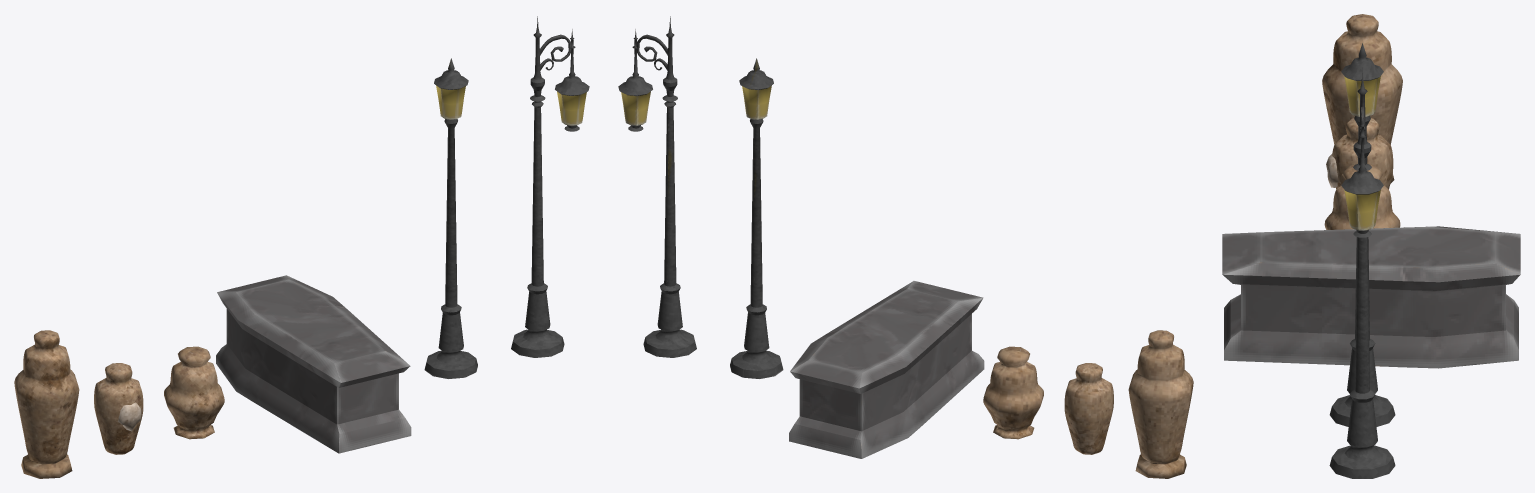
The model's file is Graveyard Assets.003.fbx.
3 renders of one model, left to right at view 1: azimuth 30°, elevation 25°; view 2: azimuth 150°, elevation 25°; view 3: azimuth 270°, elevation 25°, orthographic. The views are drawn at different scales.
Parts seen in each view (by area): view 1: Coffin.004, Urn001.002, Cylinder.010, Cylinder.009, Urn001.001, Skull.002; view 2: Coffin.004, Urn001.002, Cylinder.010, Cylinder.009, Urn001.001, Skull.002; view 3: Coffin.004, Cylinder.010, Urn001.002, Cylinder.009, Skull.002, Urn001.001.
Part boxes in pixels (x1,y1,x2,y2): Coffin.004: (216, 275, 411, 453); Urn001.002: (14, 330, 79, 478); Cylinder.010: (511, 16, 589, 357); Cylinder.009: (424, 58, 477, 378); Urn001.001: (164, 346, 224, 439); Skull.002: (94, 363, 143, 454); Coffin.004: (789, 281, 984, 458); Urn001.002: (1128, 330, 1193, 478); Cylinder.010: (618, 16, 696, 357); Cylinder.009: (730, 58, 783, 378); Urn001.001: (983, 346, 1043, 439); Skull.002: (1064, 363, 1113, 454); Coffin.004: (1222, 226, 1520, 368); Cylinder.010: (1329, 67, 1395, 478); Urn001.002: (1322, 14, 1402, 183); Cylinder.009: (1329, 43, 1395, 426); Skull.002: (1326, 118, 1393, 189); Urn001.001: (1324, 164, 1400, 229).
Size of the model in its own units: 3113 by 1754 by 1175.
